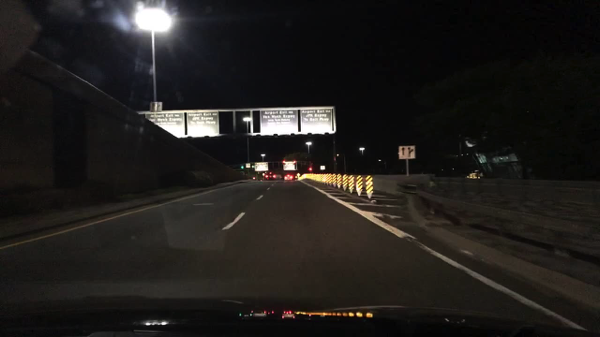car: (264, 171, 282, 181), (283, 174, 297, 181), (462, 173, 479, 178)
traffic light: (307, 167, 313, 173)
traffic sign: (145, 112, 185, 138), (259, 110, 297, 134), (186, 111, 217, 136), (300, 110, 332, 132), (399, 146, 415, 160), (254, 163, 268, 172), (283, 162, 295, 171), (244, 163, 250, 168), (259, 172, 265, 177), (319, 166, 324, 171), (295, 173, 301, 177)
